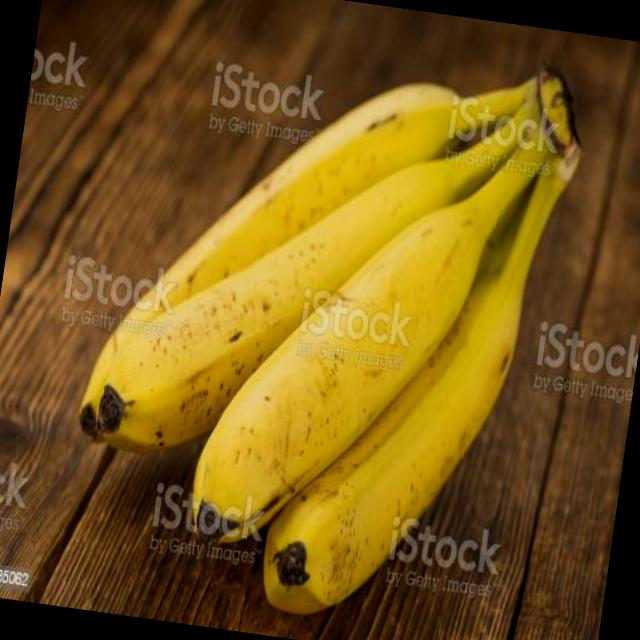Platano: (52, 0, 599, 640)
